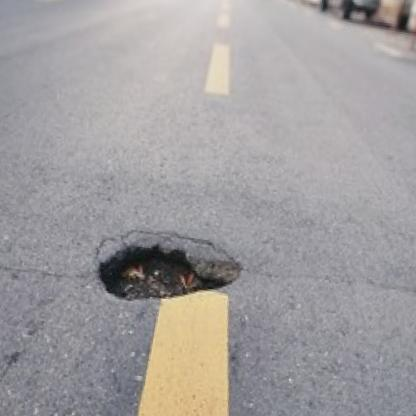pothole: (84, 218, 249, 323)
